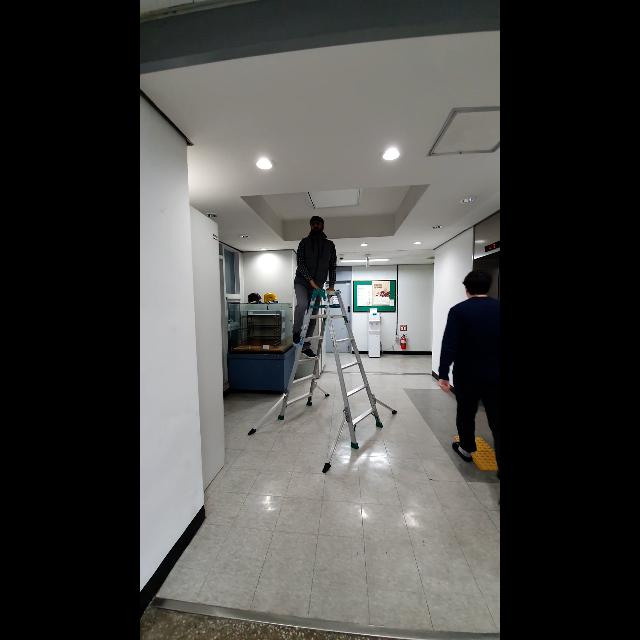boots: (245, 285, 400, 475)
vest: (436, 266, 500, 478), (291, 214, 339, 358)
